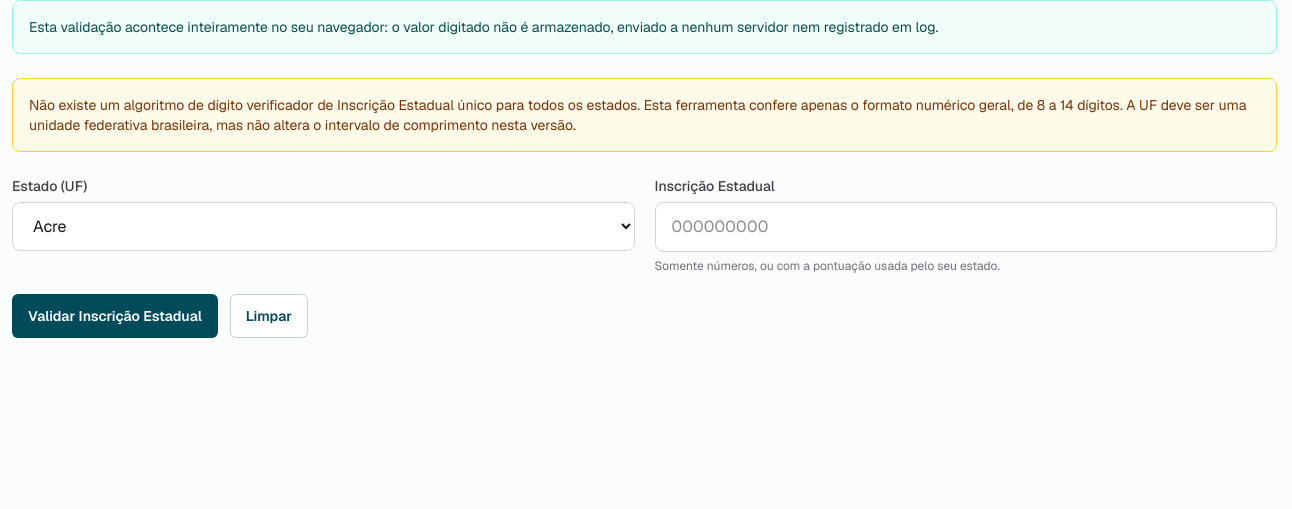
Test: ValidadorInscricaoEstadualTool › explica que o comprimento aceito é geral e não depende da UF
expect the text "não altera o intervalo de comprimento nesta versão" is shown: met, box [29,96,1246,134]
Select "São Paulo" in the dropdown labelled "Estado (UF)" at {"x": 323, "y": 226}, box [12,202,634,251]
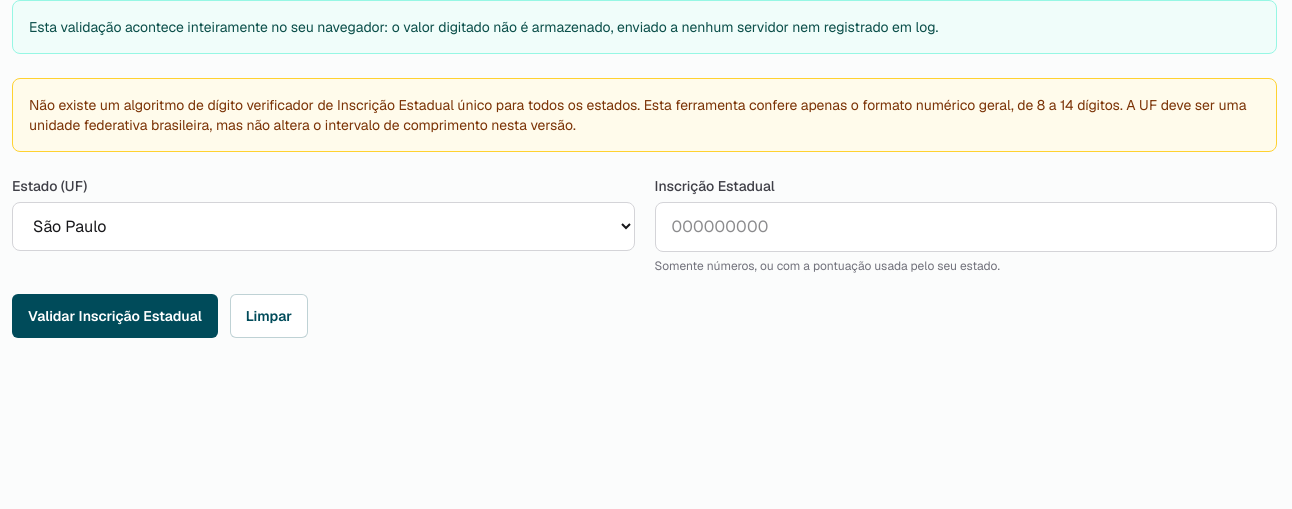
Type "12345678" into the field labelled "Inscrição Estadual".
click(966, 227); type("12345678")  # box [654,202,1277,252]
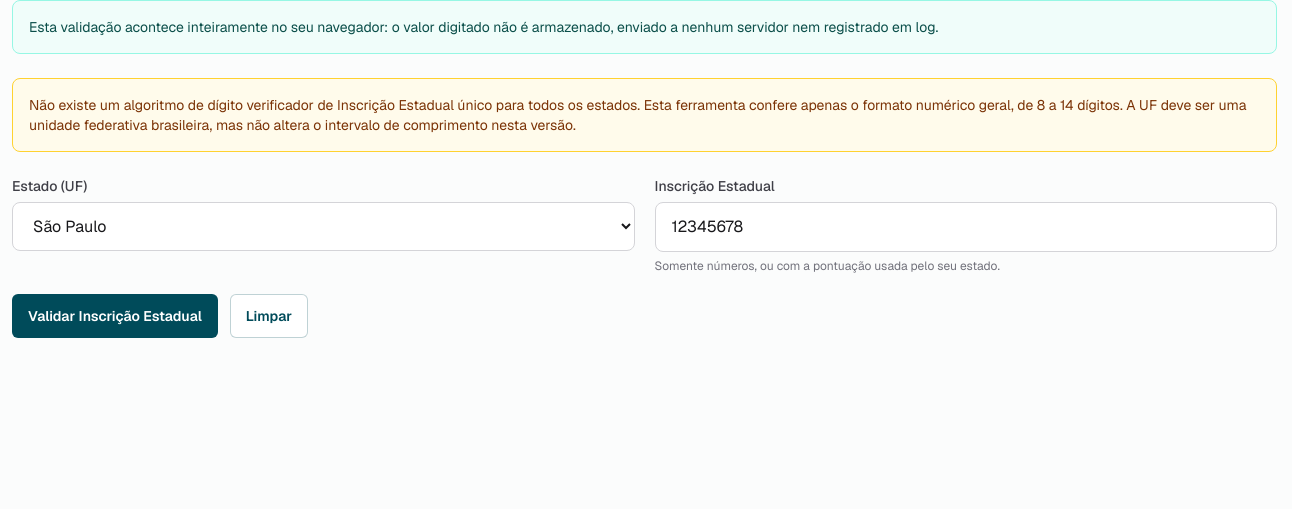
Click the button "Validar Inscrição Estadual".
click(115, 316)  # box [12,294,218,338]
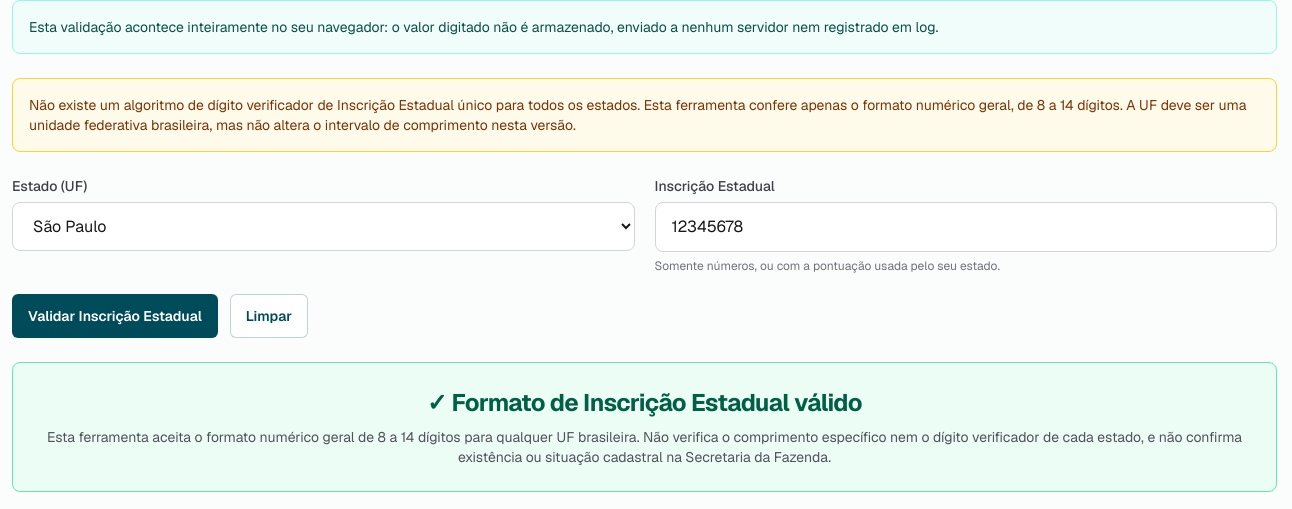
expect the text "não verifica o comprimento específico" is shown: met, box [47,428,1242,466]
